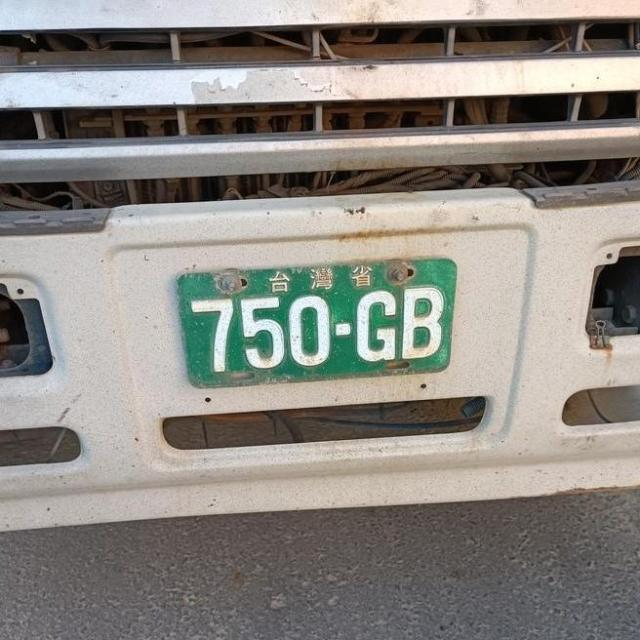GW: (148, 236, 472, 411)
